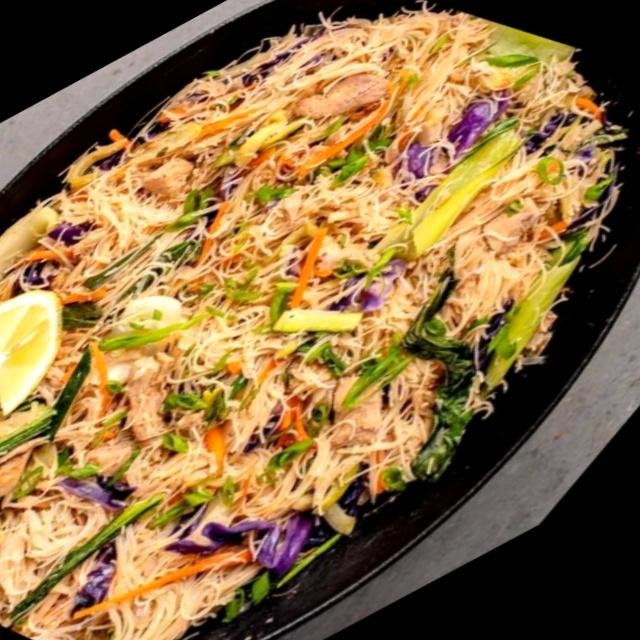pancit bihon: (0, 4, 639, 639)
